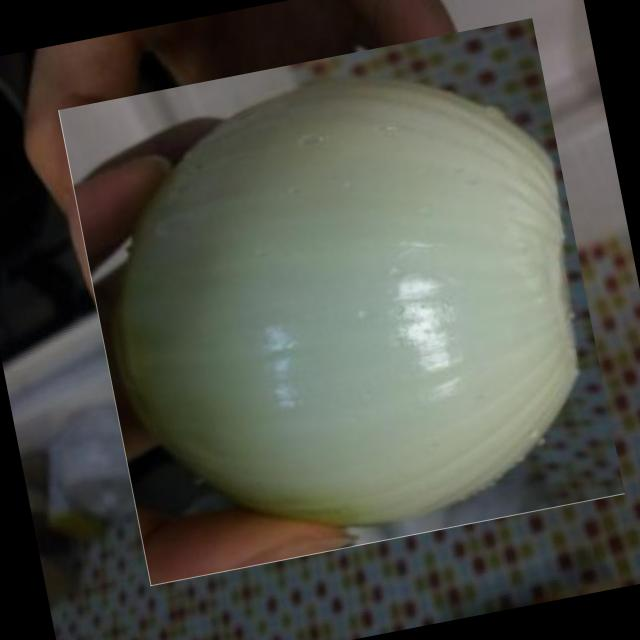Onion: (58, 18, 625, 586)
